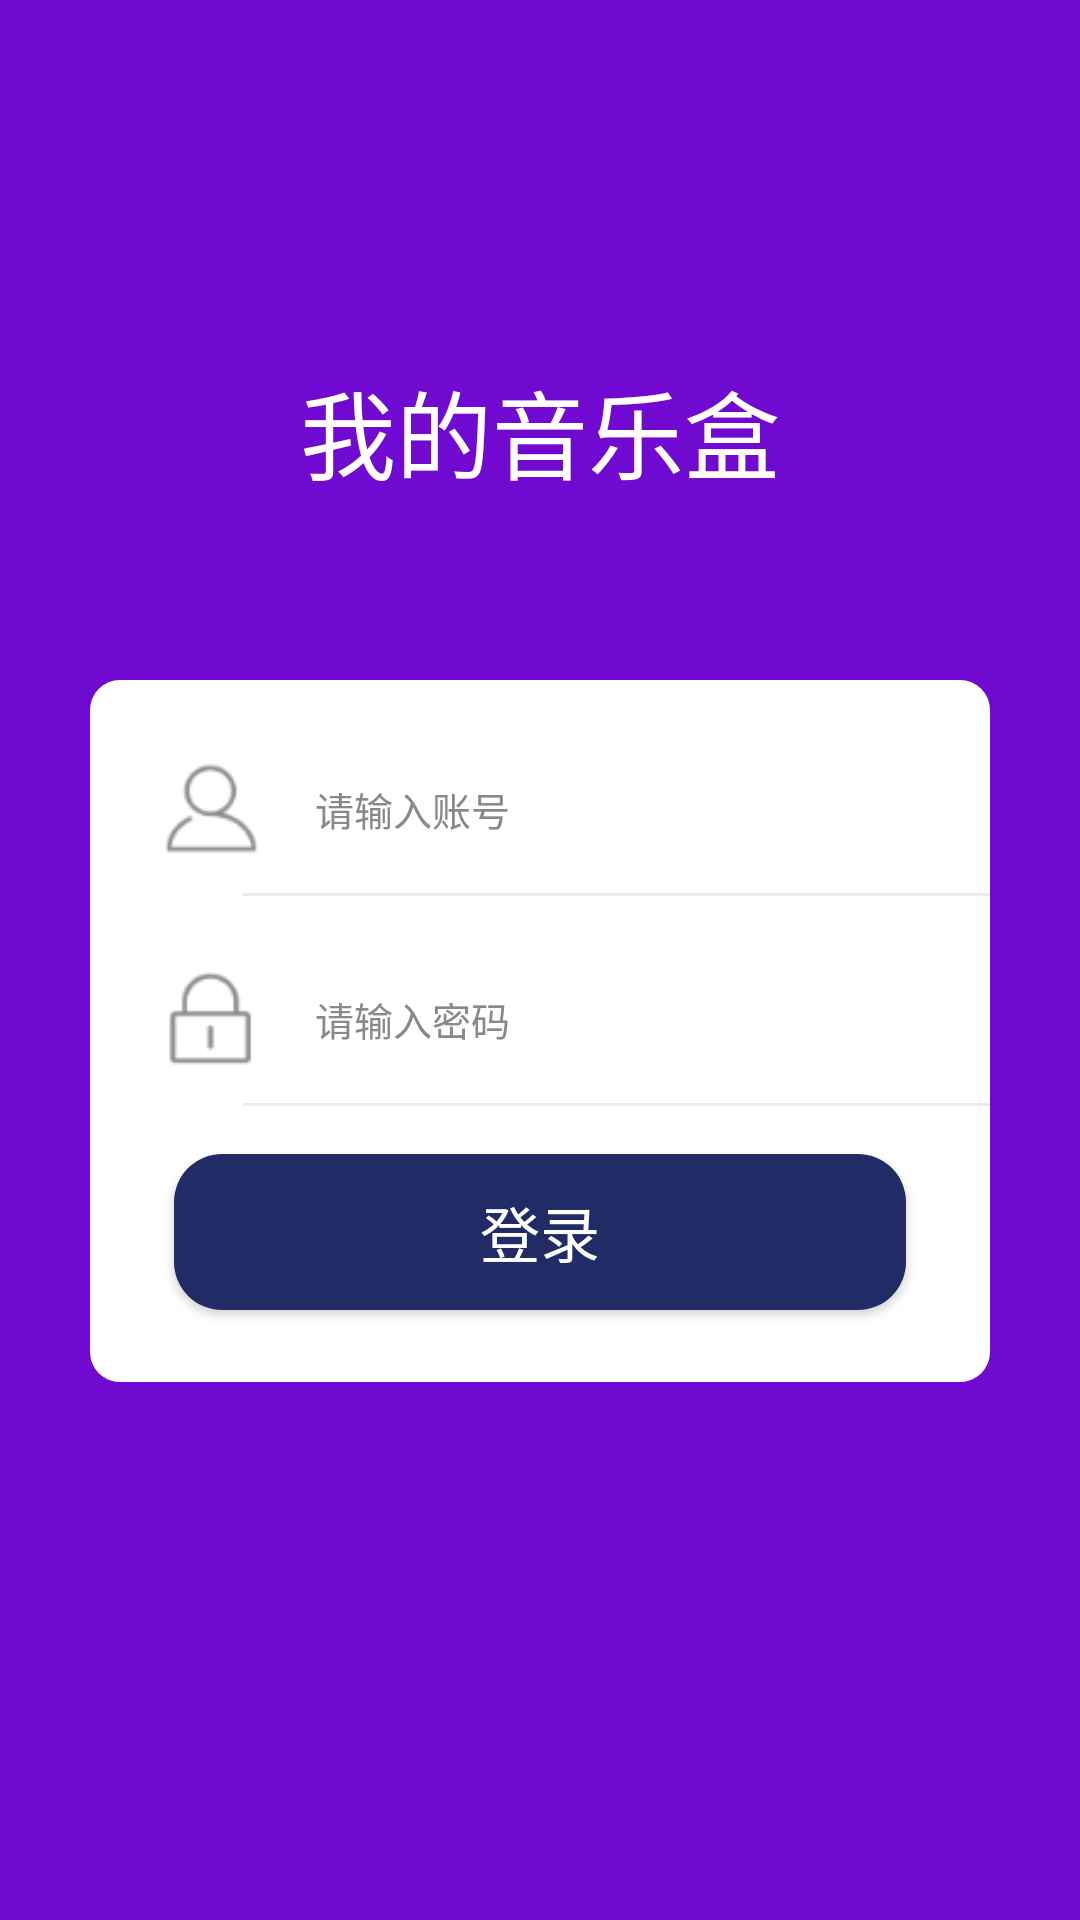

Point at icon controls on the screen. Image size 1080px×1920px, points as (x,y).
pwd flag: (210,1018)
role flag: (211,808)
